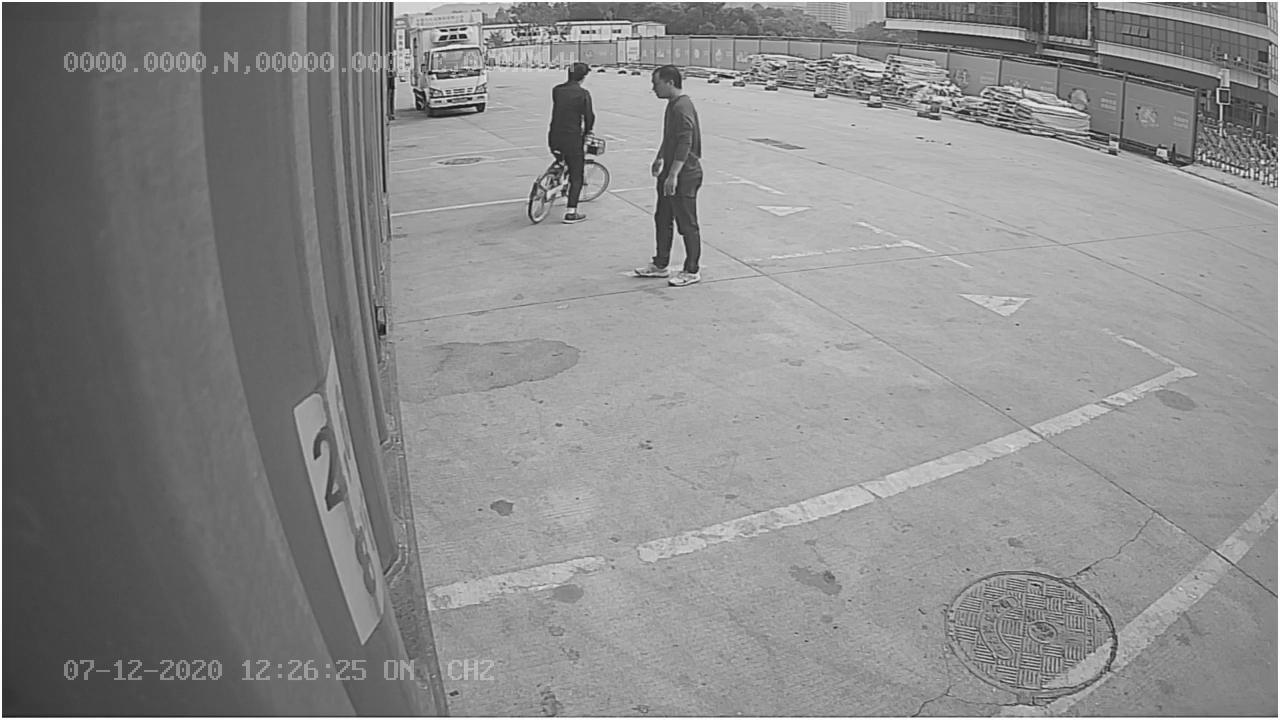person: (622, 64, 709, 288)
